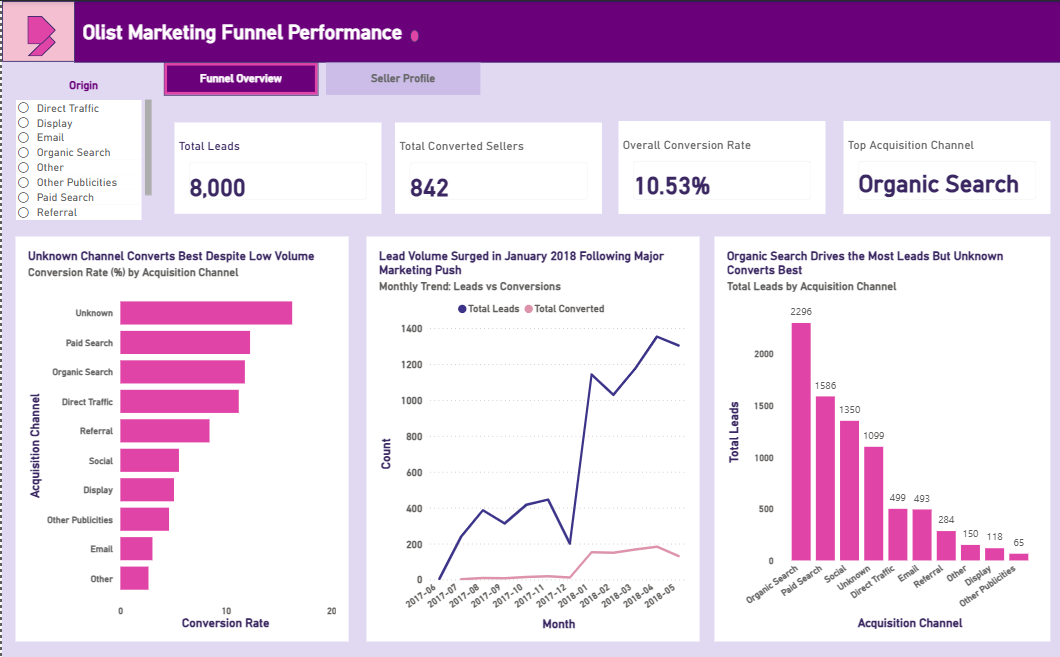

This screenshot's page, from the dashboard's own definition file:
{"tool":"powerbi","page":{"name":"Funnel Overview","canvas":[1280,800],"ordinal":0},"visuals":[{"type":"shape","title":"Olist E-Commerce Performance","box":[86.7,0,1192.8,74.1],"z":0},{"type":"shape","box":[31.4,32.1,34.2,34.2],"z":0,"group":"g1"},{"type":"shape","box":[0,0,87.8,73.2],"z":1000},{"type":"shape","box":[31.4,18.4,34.2,34.2],"z":1000,"group":"g1"},{"type":"textbox","box":[91.7,17.9,400.3,42.5],"z":2000},{"type":"shape","box":[492,33.5,11.2,15.7],"z":3000},{"type":"cardVisual","title":"Overall Conversion Rate","fields":{"Data":["olist_closed_deals_dataset.Conversion Rate"]},"box":[743.2,145,249.4,112.1],"z":4000},{"type":"cardVisual","title":"Total Leads","fields":{"Data":["olist_marketing_qualified_leads.Total Leads"]},"box":[208.3,146.8,249.4,110.2],"z":5000},{"type":"cardVisual","title":"Total Converted Sellers","fields":{"Data":["olist_closed_deals_dataset.Total Converted"]},"box":[473.9,146.8,249.4,110.2],"z":6000},{"type":"cardVisual","title":"Top Acquisition Channel","fields":{"Data":["olist_marketing_qualified_leads.Top Channel"]},"box":[1014.3,145,249.4,112.1],"z":7000},{"type":"clusteredColumnChart","title":"Organic Search Drives the Most Leads But Unknown Converts Best","fields":{"Y":["olist_marketing_qualified_leads.Total Leads"],"Category":["olist_marketing_qualified_leads.origin"]},"box":[858.5,283.7,404.8,488],"z":8000},{"type":"lineChart","title":"Lead Volume Surged in January 2018 Following Major Marketing Push","fields":{"Y":["olist_marketing_qualified_leads.Total Leads","olist_closed_deals_dataset.Total Converted"],"Category":["olist_marketing_qualified_leads.Month_Year"]},"box":[439.2,283.7,401.2,488],"z":9000},{"type":"group","id":"g1","title":"Group 2","box":[31.4,18.4,34.2,47.9],"z":10000},{"type":"clusteredBarChart","title":"Unknown Channel Converts Best Despite Low Volume","fields":{"Y":["olist_closed_deals_dataset.Conversion Rate Numeric"],"Category":["olist_marketing_qualified_leads.origin"]},"box":[16.3,283.7,401.2,488],"z":11000},{"type":"actionButton","box":[196,74.7,186.1,39.8],"z":12000},{"type":"actionButton","box":[391,74,186,39],"z":13000},{"type":"listSlicer","title":"Origin","fields":{"Values":["olist_marketing_qualified_leads.origin"]},"box":[16.3,74.1,164.5,195.2],"z":14000}]}

Visuals, with their boxes in screenshot pixels (x1, y1, x2, y2), scaled from the page's 1280x800 canvas onto the 1060x657 screenshot:
"Olist E-Commerce Performance" shape: <region>72, 0, 1059, 61</region>
shape: <region>26, 26, 54, 54</region>
shape: <region>0, 0, 73, 60</region>
shape: <region>26, 15, 54, 43</region>
textbox: <region>76, 15, 407, 50</region>
shape: <region>407, 28, 417, 40</region>
"Overall Conversion Rate" cardVisual: <region>615, 119, 822, 211</region>
"Total Leads" cardVisual: <region>172, 121, 379, 211</region>
"Total Converted Sellers" cardVisual: <region>392, 121, 599, 211</region>
"Top Acquisition Channel" cardVisual: <region>840, 119, 1047, 211</region>
"Organic Search Drives the Most Leads But Unknown Converts Best" clusteredColumnChart: <region>711, 233, 1046, 634</region>
"Lead Volume Surged in January 2018 Following Major Marketing Push" lineChart: <region>364, 233, 696, 634</region>
"Group 2" group: <region>26, 15, 54, 54</region>
"Unknown Channel Converts Best Despite Low Volume" clusteredBarChart: <region>13, 233, 346, 634</region>
actionButton: <region>162, 61, 316, 94</region>
actionButton: <region>324, 61, 478, 93</region>
"Origin" listSlicer: <region>13, 61, 150, 221</region>
